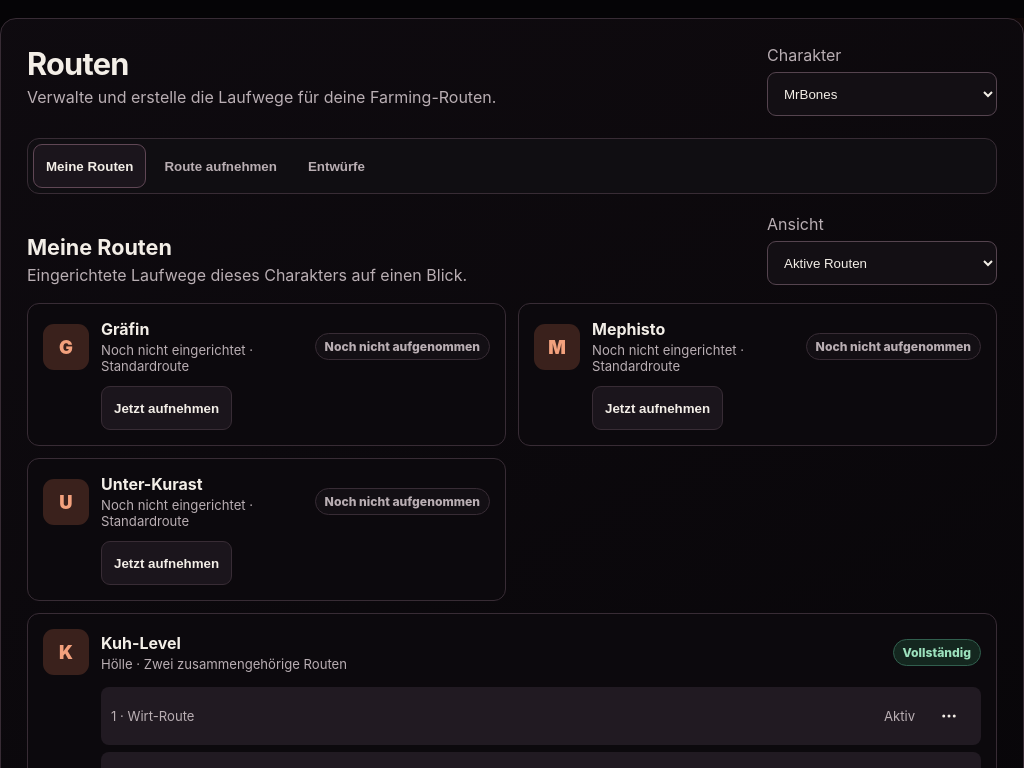
it: RouteFeature Redesign › gruppiert beide Kuhlevel-Routen und hält F9 sowie F11 an der Aufnahmeaktion
This screenshot has width=1024, height=768.
Expected: the text "Zwei zusammengehörige Routen" shows "Vollständig", [902, 644, 971, 660]
Click the button "Route aufnehmen": {"x": 221, "y": 166} [151, 144, 290, 188]
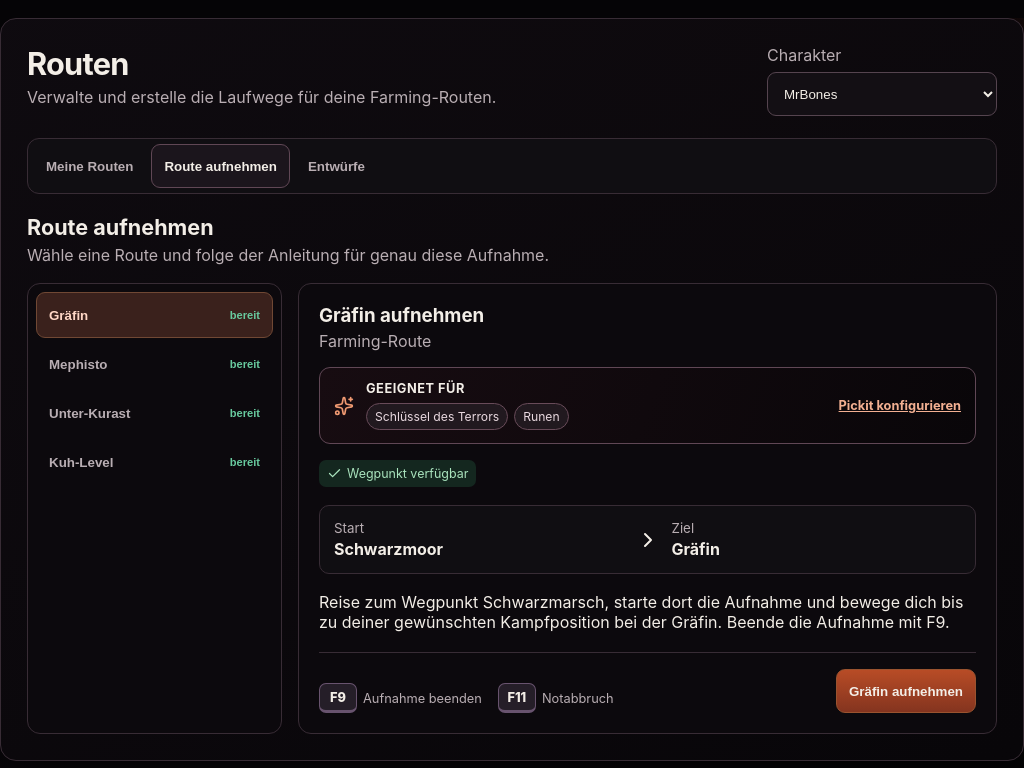
Expected: the text "F9" is shown, [319, 683, 357, 713]
Expected: the text "F11" is shown, [498, 683, 536, 713]
